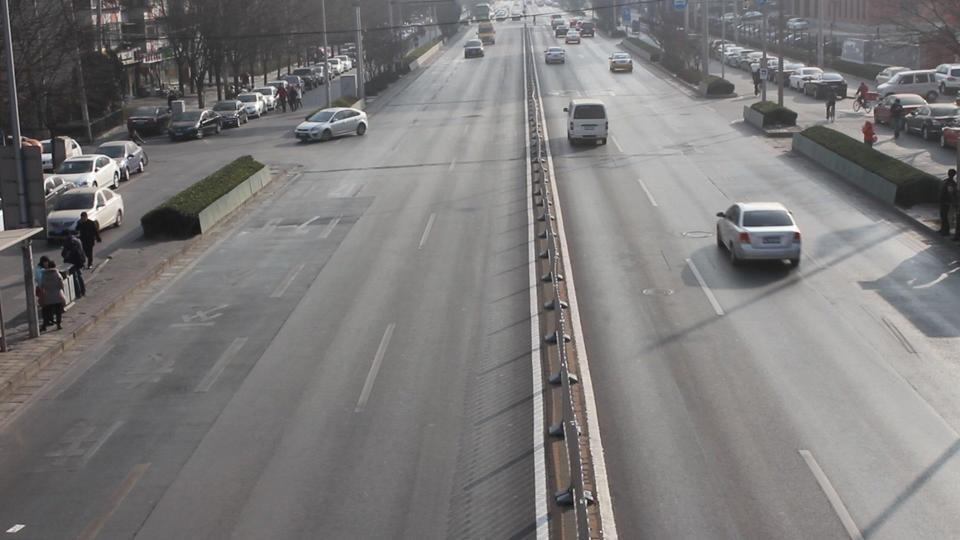car: (714, 201, 803, 268), (45, 187, 123, 240), (294, 107, 368, 143), (51, 154, 122, 190), (875, 68, 945, 100), (902, 104, 960, 140), (566, 100, 610, 147), (95, 140, 147, 179), (167, 109, 224, 142), (876, 93, 931, 127), (34, 135, 83, 173), (127, 105, 173, 137), (799, 70, 848, 98), (622, 32, 666, 63), (789, 67, 832, 93), (210, 100, 249, 128), (268, 81, 302, 111), (934, 64, 960, 96), (236, 92, 268, 117), (256, 85, 285, 112), (290, 69, 323, 89), (608, 51, 634, 73), (941, 124, 960, 149), (477, 21, 496, 45), (464, 39, 485, 59), (546, 47, 566, 65), (576, 20, 596, 37), (552, 15, 568, 36), (564, 30, 581, 45)
